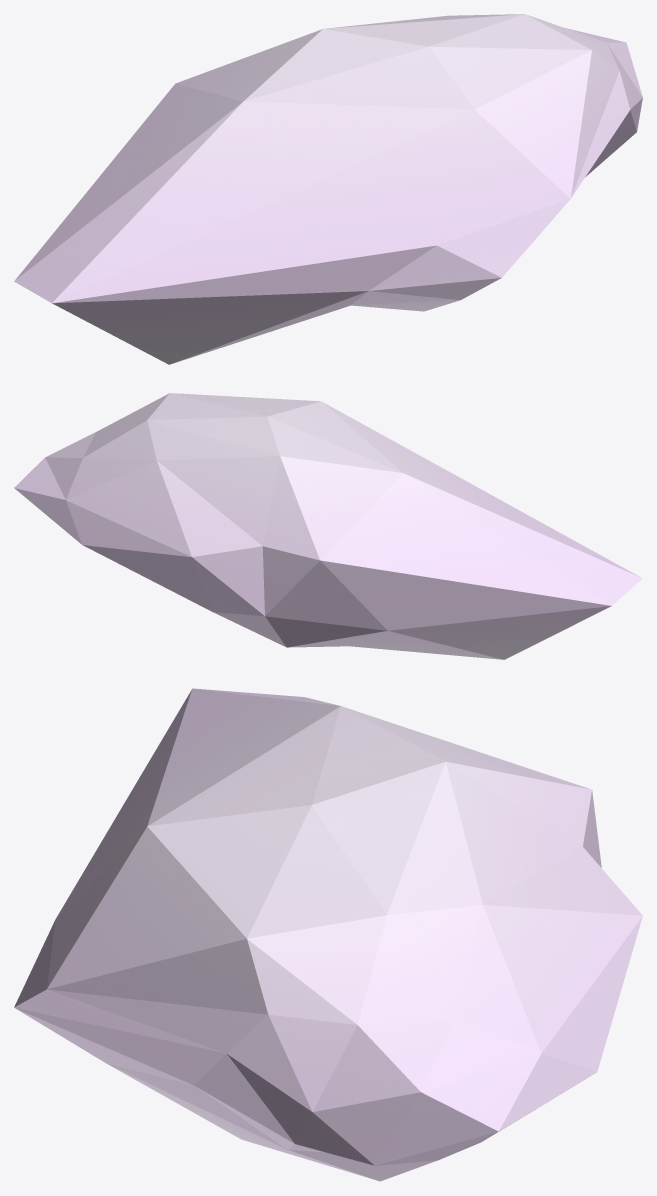
The model's file is Night_Cloud_002.FBX.
3 renders of one model, top to bottom at view 1: azimuth 30°, elevation 25°; view 2: azimuth 150°, elevation 25°; view 3: azimuth 270°, elevation 25°, orthographic. The views are drawn at different scales.
Visible parts, largest first — view 1: Night_Cloud_002; view 2: Night_Cloud_002; view 3: Night_Cloud_002.
Part boxes in pixels (box(x1,y1,x2,y2)): Night_Cloud_002: box(14, 14, 642, 364); Night_Cloud_002: box(14, 393, 642, 659); Night_Cloud_002: box(14, 688, 642, 1181).
Bounding box in the file's own units: 2375 × 822 × 1318.
1 material, 1 textured.
